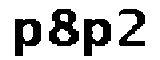2: (116, 4, 148, 52)
8: (48, 6, 79, 48)
p: (10, 15, 42, 60), (83, 17, 111, 60)
